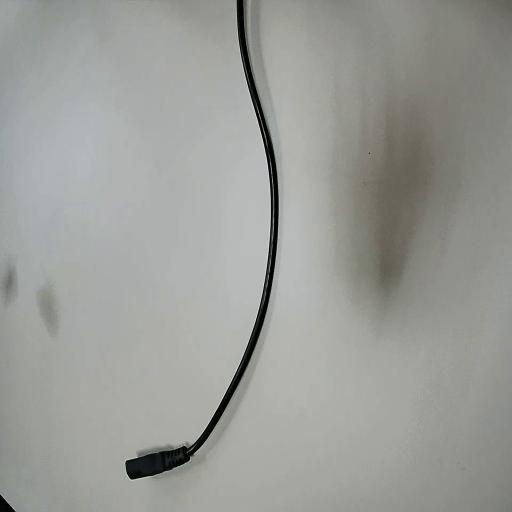wire: (127, 0, 277, 477)
